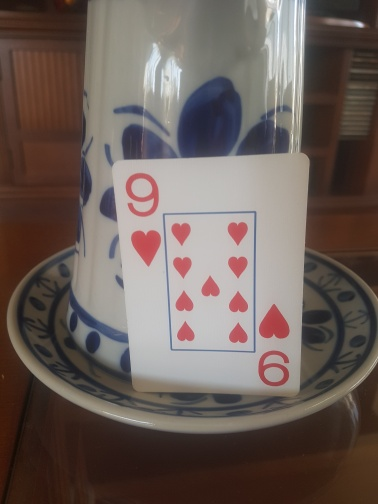nine: (111, 152, 310, 395)
